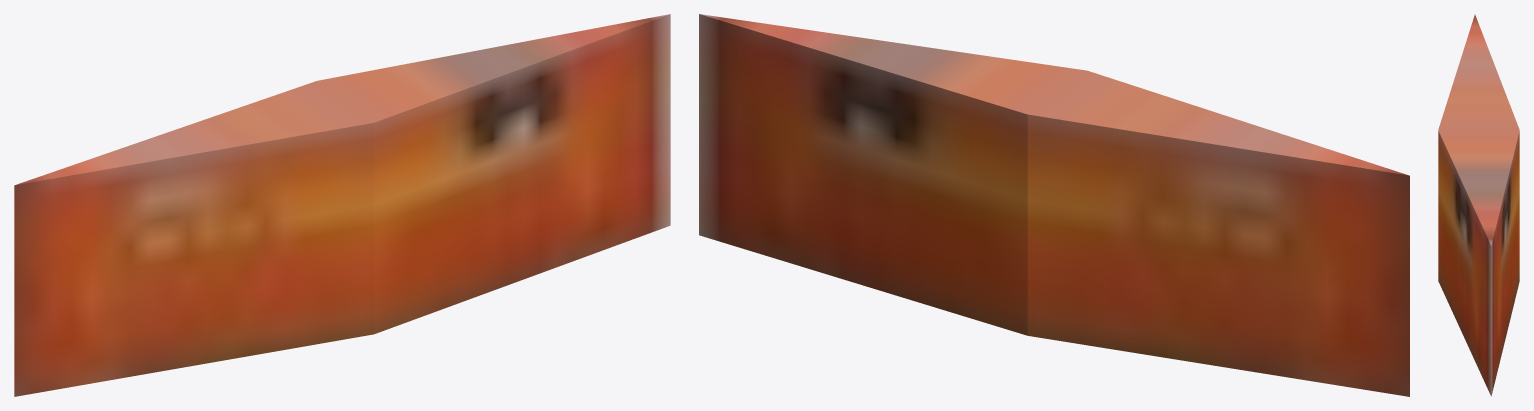
The model's file is food.biscuits.glb.
3 views of the same model, side by side, from view 1: azimuth 30°, elevation 25°; view 2: azimuth 150°, elevation 25°; view 3: azimuth 270°, elevation 25° (orthographic). The views are drawn at different scales.
Parts seen in each view (by area): view 1: Cube114; view 2: Cube114; view 3: Cube114.
Boxes of the visible parts, x1,y1,x2,y2 form: Cube114: (14, 14, 670, 396); Cube114: (699, 14, 1409, 396); Cube114: (1438, 14, 1519, 396).
Size of the model in its own units: 0.18 by 0.0545 by 0.0267.
1 material, 1 textured.
